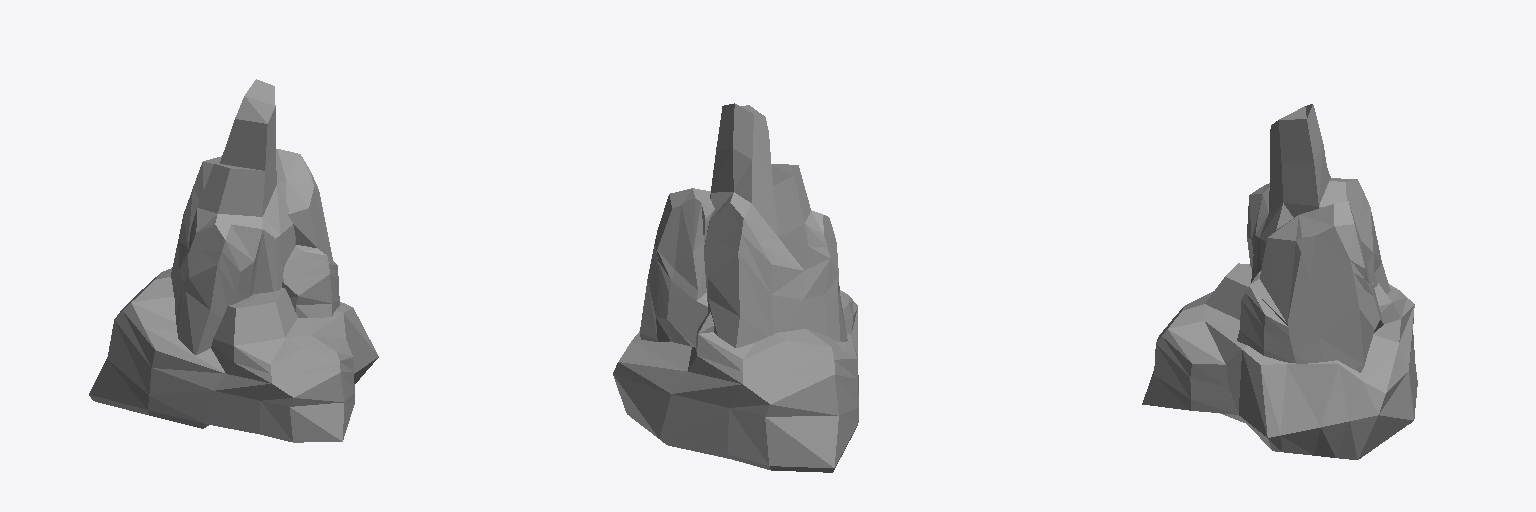
Rendered from Rock_5.obj.
3 views of the same model, side by side, from view 1: azimuth 30°, elevation 25°; view 2: azimuth 150°, elevation 25°; view 3: azimuth 270°, elevation 25° (orthographic).
Visible parts, largest first — view 1: Rock_5_Cube.005; view 2: Rock_5_Cube.005; view 3: Rock_5_Cube.005.
Boxes of the visible parts, x1=… form: Rock_5_Cube.005: x1=89, y1=79, x2=378, y2=442; Rock_5_Cube.005: x1=613, y1=103, x2=858, y2=472; Rock_5_Cube.005: x1=1142, y1=104, x2=1417, y2=459.
Bounding box in the file's own units: 1.29 × 1.69 × 1.32.